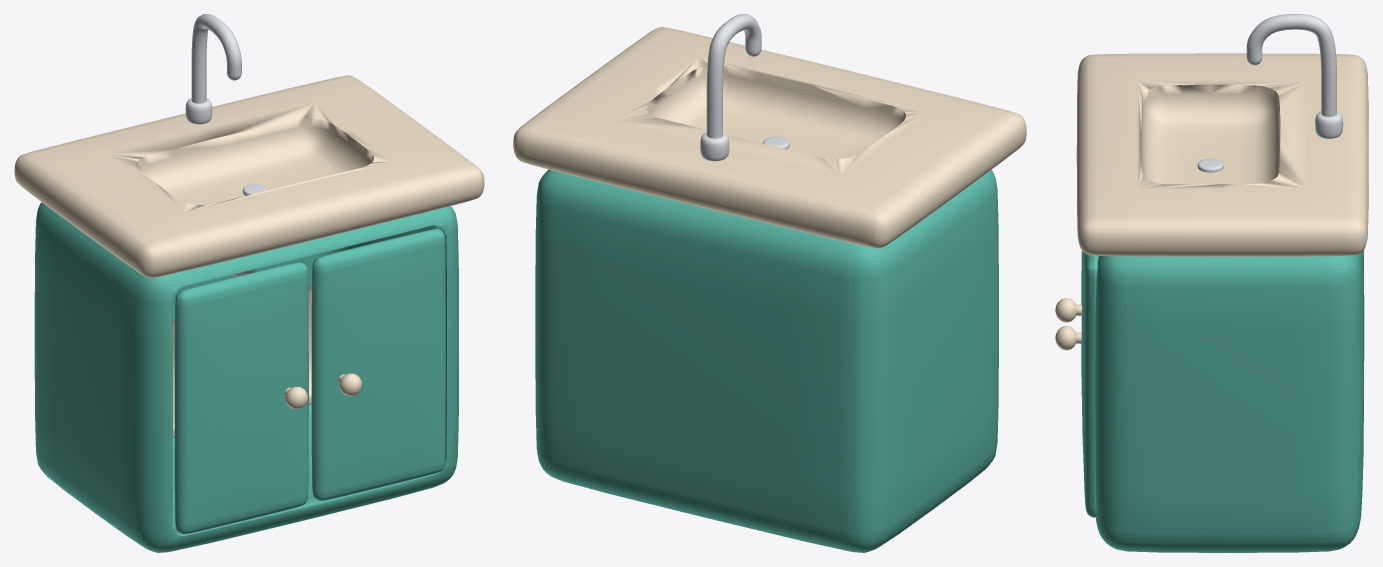
Rendered from sink_a.glb.
The picture shows the model from 3 angles, left to right: view 1: azimuth 30°, elevation 25°; view 2: azimuth 150°, elevation 25°; view 3: azimuth 270°, elevation 25°; orthographic projection. The views are drawn at different scales.
Visible parts, largest first — view 1: body, door_l, door_r; view 2: body; view 3: body, door_r, door_l.
Boxes of the visible parts, x1=… form: body: x1=14, y1=14, x2=484, y2=552; door_l: x1=174, y1=262, x2=308, y2=534; door_r: x1=311, y1=229, x2=445, y2=500; body: x1=513, y1=14, x2=1026, y2=552; body: x1=1076, y1=14, x2=1368, y2=552; door_r: x1=1055, y1=252, x2=1098, y2=517; door_l: x1=1055, y1=251, x2=1083, y2=322.
Size of the model in its own units: 0.96 by 1.18 by 0.714.
